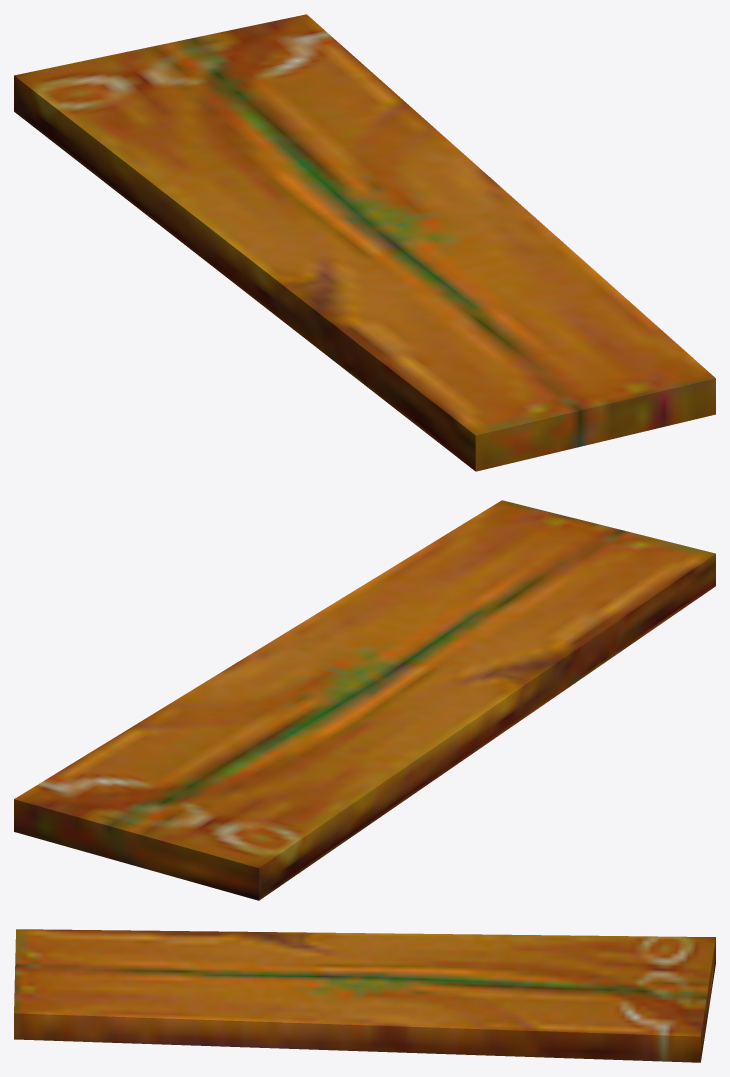
The model's file is wood01.fbx.
3 views of the same model, one above another, from view 1: azimuth 30°, elevation 25°; view 2: azimuth 150°, elevation 25°; view 3: azimuth 270°, elevation 25° (orthographic). The views are drawn at different scales.
Parts seen in each view (by area): view 1: Box002; view 2: Box002; view 3: Box002.
Part boxes in pixels (x1,y1,x2,y2): Box002: [14, 14, 715, 471]; Box002: [14, 500, 715, 900]; Box002: [14, 929, 715, 1062].
Bounding box in the file's own units: 111 × 12.56 × 306.
